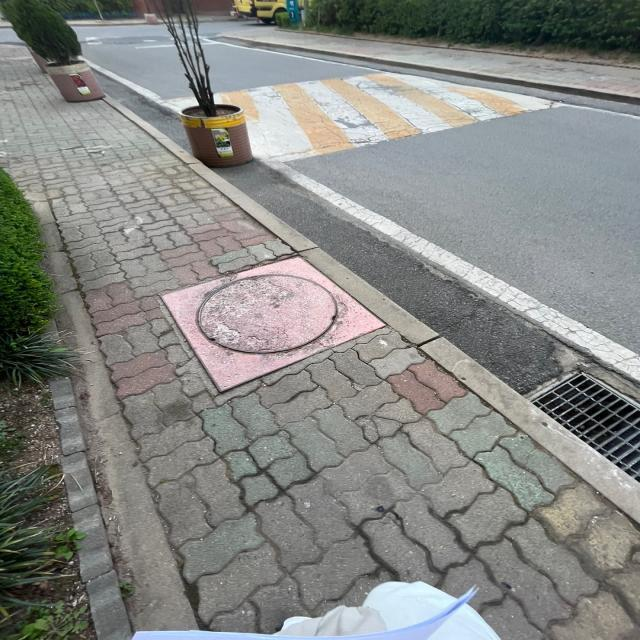manhole: (196, 274, 338, 353)
